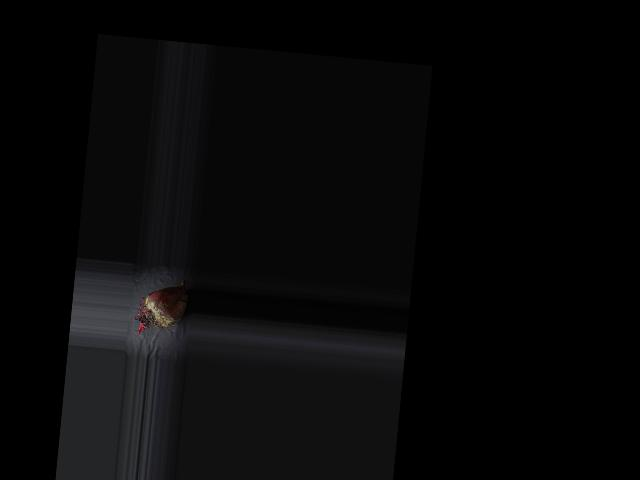beet: (133, 274, 189, 338)
